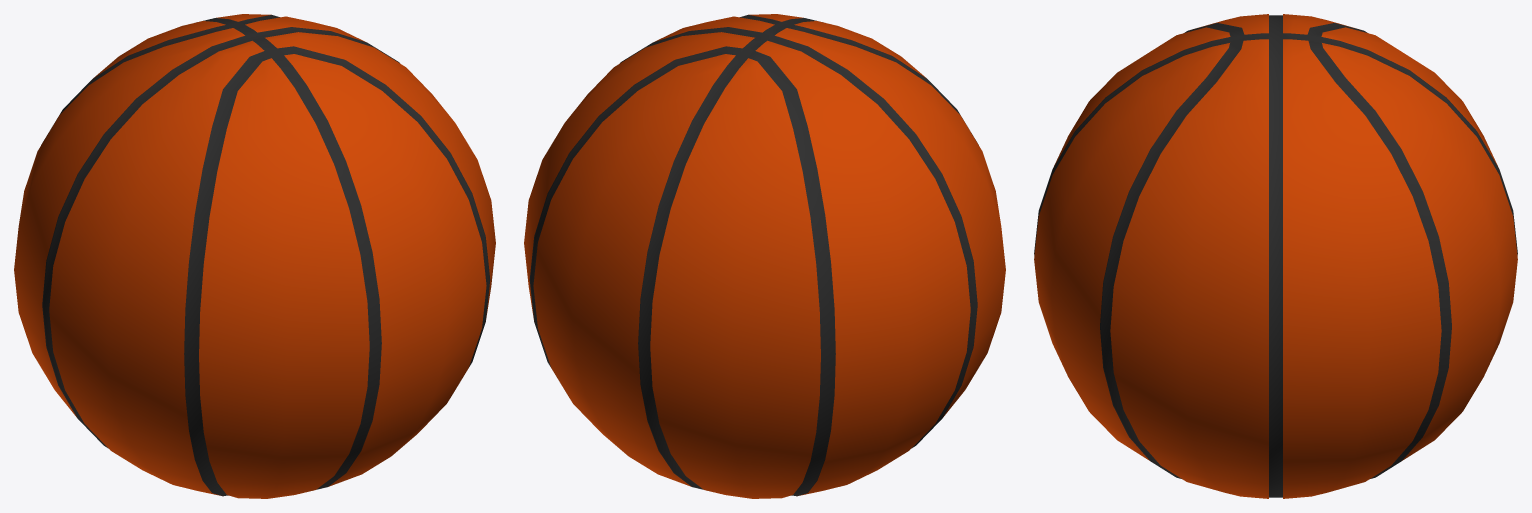
The model's file is basketball.fbx.
3 renders of one model, left to right at view 1: azimuth 30°, elevation 25°; view 2: azimuth 150°, elevation 25°; view 3: azimuth 270°, elevation 25°, orthographic.
Visible parts, largest first — view 1: BasketballBall; view 2: BasketballBall; view 3: BasketballBall.
Part boxes in pixels (<box>): BasketballBall: <box>14,14,495,498</box>; BasketballBall: <box>524,14,1005,498</box>; BasketballBall: <box>1034,14,1517,498</box>.
Bounding box in the file's own units: 74.99 × 75.27 × 74.99.
1 material, 1 textured.
